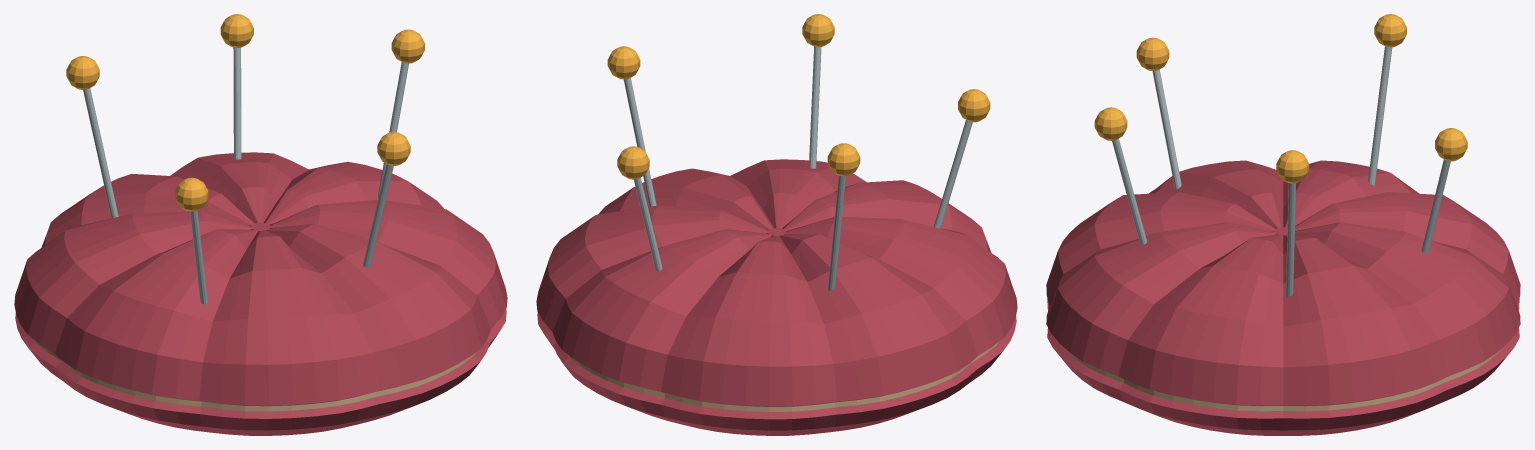
3 renders of one model, left to right at view 1: azimuth 30°, elevation 25°; view 2: azimuth 150°, elevation 25°; view 3: azimuth 270°, elevation 25°, orthographic. The views are drawn at different scales.
Visible parts, largest first — view 1: Cushion_SeamedBody, Pin_02_Shaft, Pin_03_Shaft, Pin_04_BallHead, Pin_01_BallHead, Pin_02_BallHead, Pin_03_BallHead, Pin_05_BallHead, Pin_05_Shaft, Pin_01_Shaft, Pin_04_Shaft; view 2: Cushion_SeamedBody, Pin_05_Shaft, Pin_02_Shaft, Pin_01_Shaft, Pin_04_BallHead, Pin_02_BallHead, Pin_03_BallHead, Pin_01_BallHead, Pin_05_BallHead, Pin_04_Shaft, Pin_03_Shaft; view 3: Cushion_SeamedBody, Pin_02_Shaft, Pin_01_Shaft, Pin_04_Shaft, Pin_05_BallHead, Pin_04_BallHead, Pin_01_BallHead, Pin_02_BallHead, Pin_03_BallHead, Pin_05_Shaft, Pin_03_Shaft.
Boxes of the visible parts, bbox=[...] form: Cushion_SeamedBody: bbox=[14, 152, 507, 435]; Pin_02_Shaft: bbox=[83, 88, 118, 218]; Pin_03_Shaft: bbox=[233, 47, 241, 159]; Pin_04_BallHead: bbox=[391, 29, 424, 63]; Pin_01_BallHead: bbox=[175, 177, 208, 211]; Pin_02_BallHead: bbox=[66, 56, 99, 89]; Pin_03_BallHead: bbox=[220, 14, 253, 47]; Pin_05_BallHead: bbox=[377, 132, 410, 165]; Pin_05_Shaft: bbox=[363, 164, 393, 267]; Pin_01_Shaft: bbox=[190, 211, 207, 304]; Pin_04_Shaft: bbox=[378, 62, 408, 198]; Cushion_SeamedBody: bbox=[536, 159, 1017, 435]; Pin_05_Shaft: bbox=[809, 46, 821, 168]; Pin_02_Shaft: bbox=[828, 175, 845, 290]; Pin_01_Shaft: bbox=[933, 120, 972, 228]; Pin_04_BallHead: bbox=[607, 46, 640, 79]; Pin_02_BallHead: bbox=[827, 143, 860, 176]; Pin_03_BallHead: bbox=[617, 146, 649, 179]; Pin_01_BallHead: bbox=[958, 89, 990, 122]; Pin_05_BallHead: bbox=[802, 14, 834, 47]; Pin_04_Shaft: bbox=[623, 78, 656, 206]; Pin_03_Shaft: bbox=[634, 177, 662, 270]; Cushion_SeamedBody: bbox=[1046, 160, 1520, 435]; Pin_02_Shaft: bbox=[1368, 46, 1392, 185]; Pin_01_Shaft: bbox=[1152, 69, 1181, 189]; Pin_04_Shaft: bbox=[1285, 183, 1295, 297]; Pin_05_BallHead: bbox=[1094, 107, 1127, 140]; Pin_04_BallHead: bbox=[1276, 150, 1309, 183]; Pin_01_BallHead: bbox=[1136, 37, 1169, 70]; Pin_02_BallHead: bbox=[1374, 14, 1406, 47]; Pin_03_BallHead: bbox=[1435, 128, 1467, 161]; Pin_05_Shaft: bbox=[1112, 138, 1147, 244]; Pin_03_Shaft: bbox=[1421, 159, 1450, 253].
Size of the model in its own units: 0.1018 by 0.0696 by 0.1018.
